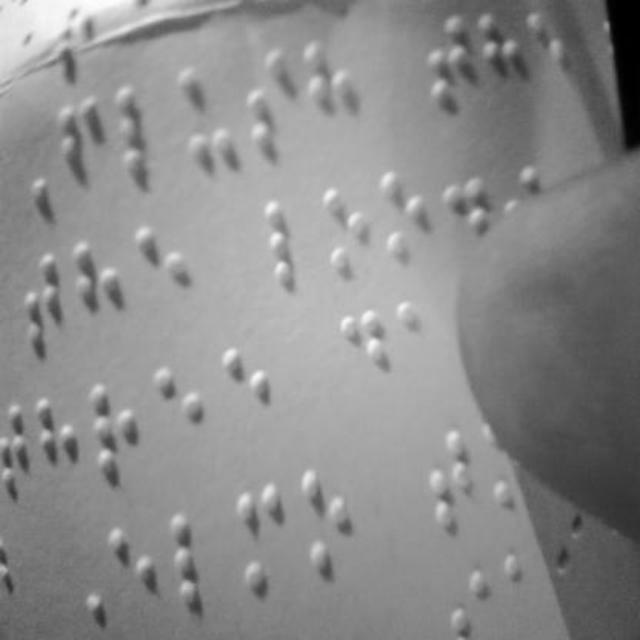braiile: (232, 472, 294, 598), (296, 462, 362, 578), (36, 381, 92, 504), (331, 304, 392, 416), (71, 232, 127, 352), (168, 500, 228, 610), (302, 37, 362, 147), (179, 59, 237, 171), (136, 212, 190, 332), (426, 416, 478, 540), (56, 84, 112, 198), (240, 41, 298, 150), (115, 76, 171, 188), (10, 241, 66, 353), (89, 380, 147, 488), (108, 508, 166, 616), (321, 175, 377, 282), (378, 165, 434, 272), (221, 339, 273, 448), (152, 361, 204, 464), (262, 194, 314, 292), (424, 13, 472, 117), (1, 388, 33, 506)
